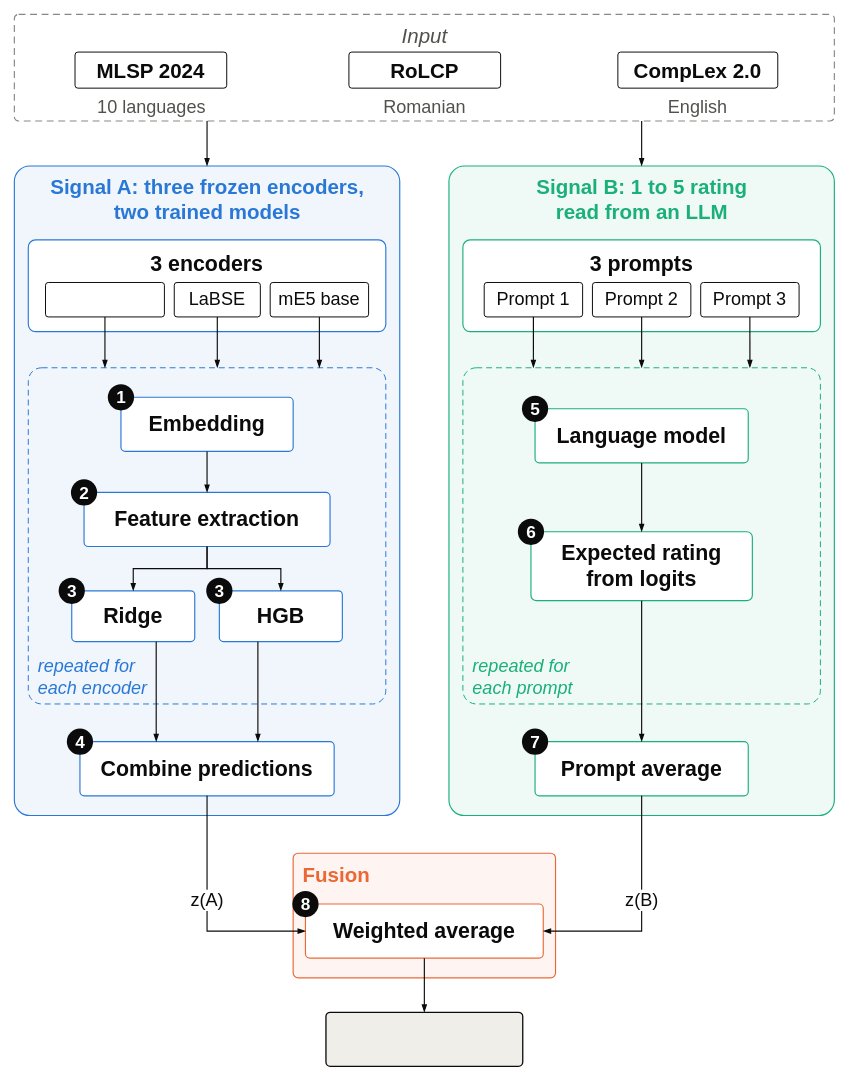
The diagram is 850 pixels wide and 1082 high, and some of its shapes have lost their labels. Here are the shapes that lost their labels. From the top down, the centre of each, then its label:
(104,299): XLM-R base
(424,1039): Complexity ŷ
